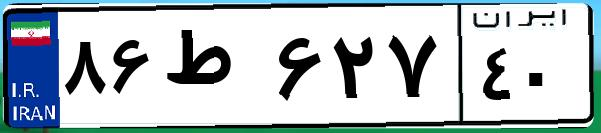0: (525, 38, 570, 115)
2: (330, 28, 385, 110)
4: (475, 38, 525, 113)
6: (270, 28, 330, 110), (110, 28, 158, 98)
7: (385, 28, 445, 110)
8: (57, 26, 110, 100)
ط: (158, 20, 270, 120)
